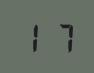one: (19, 19, 45, 52)
seven: (46, 19, 72, 53)
